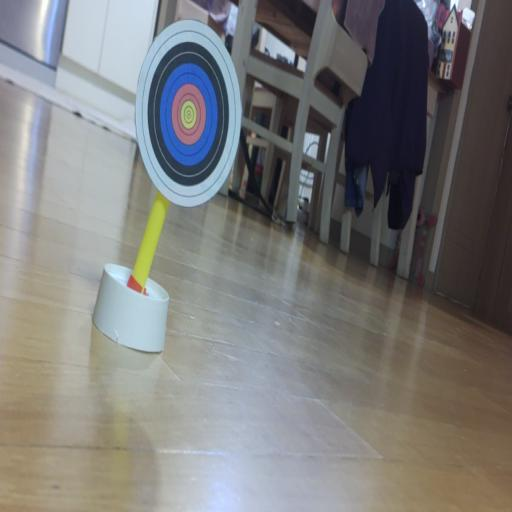target: (136, 20, 241, 206)
